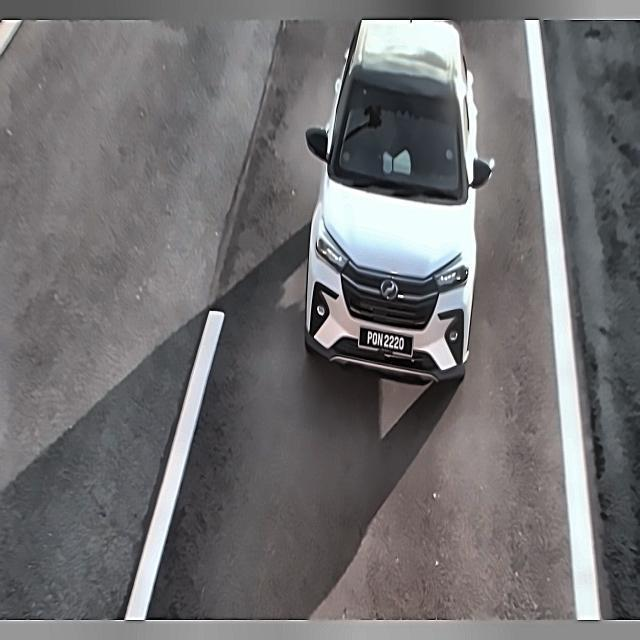car: (358, 322, 415, 359)
